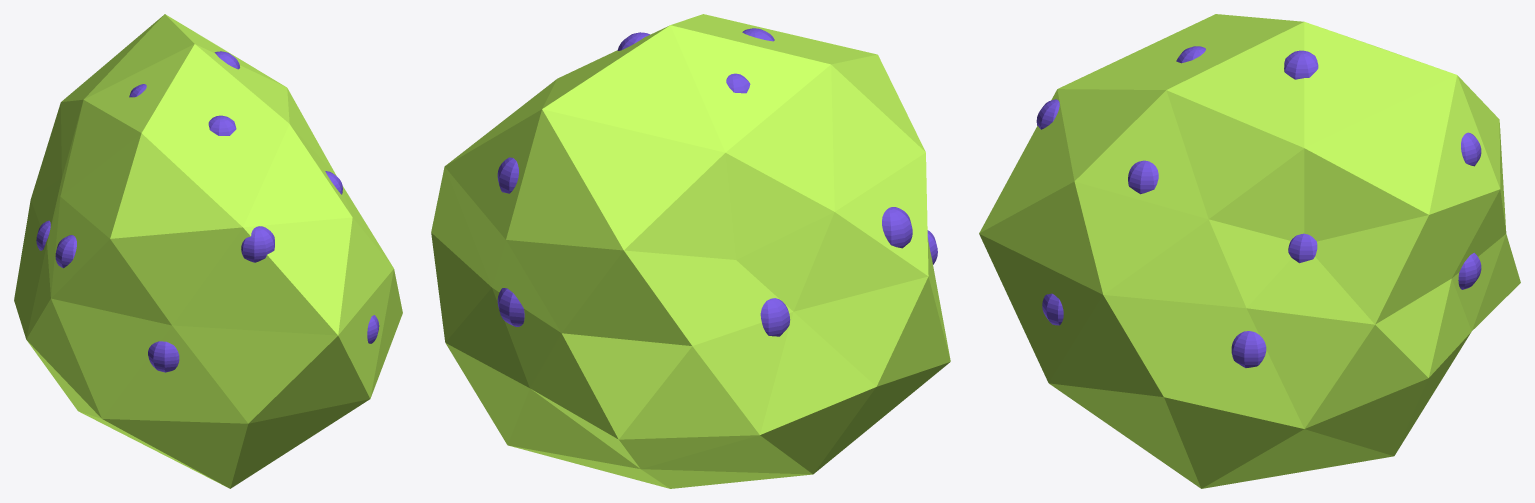
Rendered from bushBlue.fbx.
3 views of the same model, side by side, from view 1: azimuth 30°, elevation 25°; view 2: azimuth 150°, elevation 25°; view 3: azimuth 270°, elevation 25° (orthographic). The views are drawn at different scales.
Parts seen in each view (by area): view 1: Icosphere.002, Sphere.003, Sphere.011, Sphere.004, Sphere.012; view 2: Icosphere.002, Sphere.004, Sphere.005, Sphere.006, Sphere.007; view 3: Icosphere.002, Sphere.009, Sphere.002, Sphere.008, Sphere.013, Sphere.006.
Boxes of the visible parts, box(x1,y1,x2,y2) form: Icosphere.002: box(14, 14, 402, 488); Sphere.003: box(241, 226, 274, 262); Sphere.011: box(148, 341, 179, 372); Sphere.004: box(55, 235, 76, 268); Sphere.012: box(208, 115, 236, 135); Icosphere.002: box(431, 14, 950, 488); Sphere.004: box(882, 207, 912, 248); Sphere.005: box(760, 298, 790, 336); Sphere.006: box(497, 288, 524, 326); Sphere.007: box(497, 157, 518, 193); Icosphere.002: box(979, 14, 1520, 488); Sphere.009: box(1231, 331, 1266, 367); Sphere.002: box(1128, 160, 1158, 194); Sphere.008: box(1284, 50, 1318, 79); Sphere.013: box(1288, 233, 1317, 263); Sphere.006: box(1458, 252, 1481, 289).
Bounding box in the file's own units: 252 × 259 × 296.
